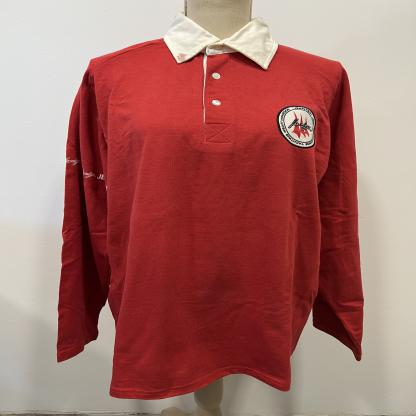stain: (174, 52, 190, 62)
